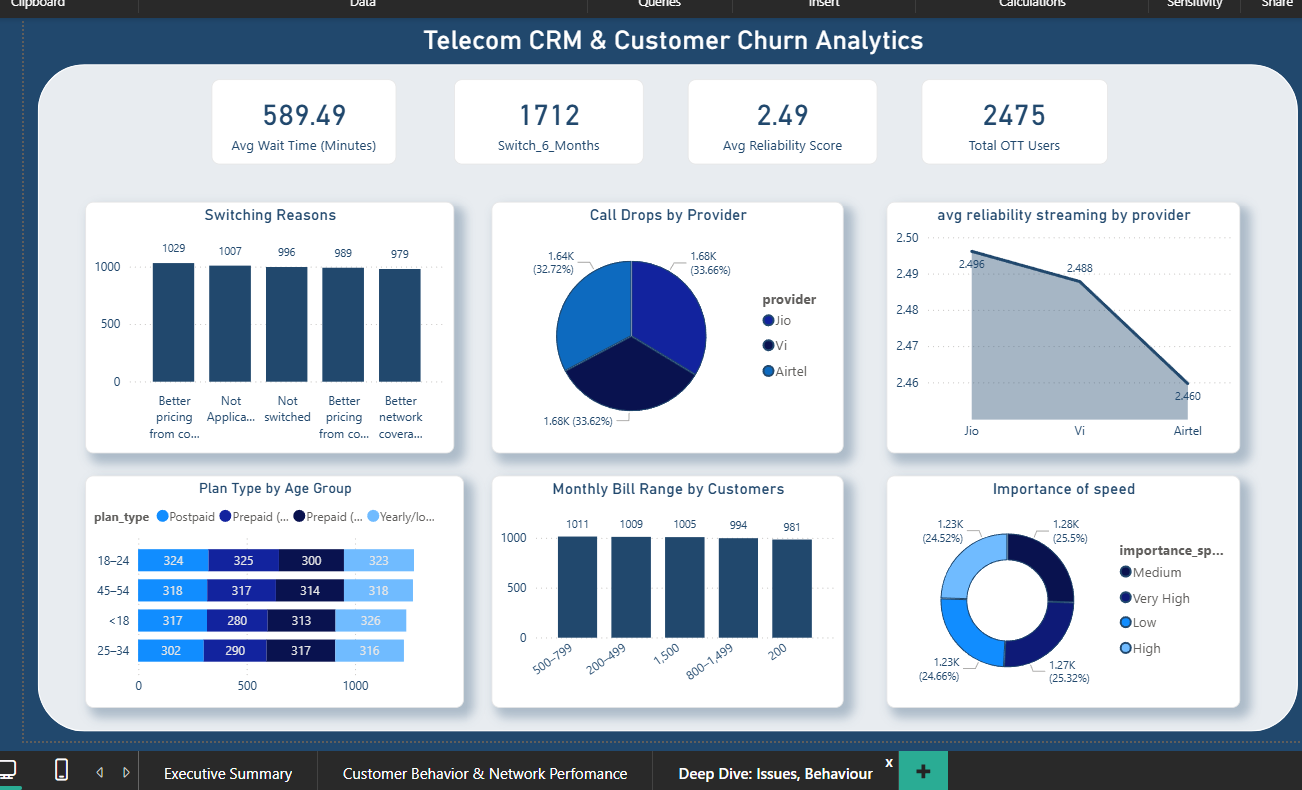

This screenshot's page, from the dashboard's own definition file:
{"tool":"powerbi","page":{"name":"Deep Dive: Issues, Behaviour & spend analysis","canvas":[1280,720],"ordinal":2},"visuals":[{"type":"shape","box":[0,56,1253.9,664.3],"z":0},{"type":"textbox","title":"Telecom CRM & Customer Churn Analytics","box":[370.4,0,551.5,41.7],"z":1000},{"type":"card","fields":{"Values":["telecom_synthetic_5000.Avg Wait Time (Minutes)"]},"box":[65.9,74.6,184.1,84.6],"z":2000},{"type":"card","fields":{"Values":["telecom_synthetic_5000.Switch_6_Months"]},"box":[296.1,74.6,189.1,84.6],"z":3000},{"type":"card","fields":{"Values":["telecom_synthetic_5000.Average Reliability Score"]},"box":[532.4,74.6,189.1,84.6],"z":4000},{"type":"lineClusteredColumnComboChart","title":"Switching Reasons","fields":{"Category":["telecom_synthetic_5000.switch_reason"],"Y":["telecom_synthetic_5000.Total Customers"]},"box":[61,182.9,367,250],"z":5000},{"type":"pieChart","title":" Call Drops by Provider","fields":{"Category":["telecom_synthetic_5000.provider"],"Y":["CountNonNull(telecom_synthetic_5000.call_drops_weekly)"]},"box":[465.2,182.9,350.8,250],"z":6000},{"type":"barChart","title":"Plan Type by Age Group","fields":{"Series":["telecom_synthetic_5000.plan_type"],"Category":["telecom_synthetic_5000.age_group"],"Y":["telecom_synthetic_5000.Total Customers"]},"box":[61,455.3,376.9,231.4],"z":7000},{"type":"clusteredColumnChart","title":"Monthly Bill Range by Customers","fields":{"Category":["telecom_synthetic_5000.monthly_bill_range"],"Y":["telecom_synthetic_5000.Total Customers"]},"box":[465.2,455.3,350.8,231.4],"z":8000},{"type":"areaChart","fields":{"Category":["telecom_synthetic_5000.provider"],"Y":["telecom_synthetic_5000.avg reliability streaming"]},"box":[858.3,182.9,352,250],"z":9000},{"type":"donutChart","title":" Importance of speed ","fields":{"Category":["telecom_synthetic_5000.importance_speed"],"Y":["CountNonNull(telecom_synthetic_5000.importance_speed)"]},"box":[858.3,455.3,352,231.4],"z":10000},{"type":"card","fields":{"Values":["telecom_synthetic_5000.Total OTT Users"]},"box":[773.7,74.6,185.3,84.6],"z":11000},{"type":"card","fields":{"Values":["telecom_synthetic_5000.Avg Streaming Reliability"]},"box":[992.7,74.6,184.1,84.6],"z":12000}]}

Visuals, with their boxes on the page's 1280x720 design canvas (x1, y1, x2, y2). These are canvas units, not pixel positions in the 1302x790 screenshot, which may show the page scaled, cropped or inside an application window:
shape: (left=0, top=56, right=1254, bottom=720)
"Telecom CRM & Customer Churn Analytics" textbox: (left=370, top=0, right=922, bottom=42)
card - telecom_synthetic_5000.Avg Wait Time (Minutes): (left=66, top=75, right=250, bottom=159)
card - telecom_synthetic_5000.Switch_6_Months: (left=296, top=75, right=485, bottom=159)
card - telecom_synthetic_5000.Average Reliability Score: (left=532, top=75, right=722, bottom=159)
"Switching Reasons" lineClusteredColumnComboChart: (left=61, top=183, right=428, bottom=433)
" Call Drops by Provider" pieChart: (left=465, top=183, right=816, bottom=433)
"Plan Type by Age Group" barChart: (left=61, top=455, right=438, bottom=687)
"Monthly Bill Range by Customers" clusteredColumnChart: (left=465, top=455, right=816, bottom=687)
areaChart - telecom_synthetic_5000.provider x telecom_synthetic_5000.avg reliability streaming: (left=858, top=183, right=1210, bottom=433)
" Importance of speed " donutChart: (left=858, top=455, right=1210, bottom=687)
card - telecom_synthetic_5000.Total OTT Users: (left=774, top=75, right=959, bottom=159)
card - telecom_synthetic_5000.Avg Streaming Reliability: (left=993, top=75, right=1177, bottom=159)
